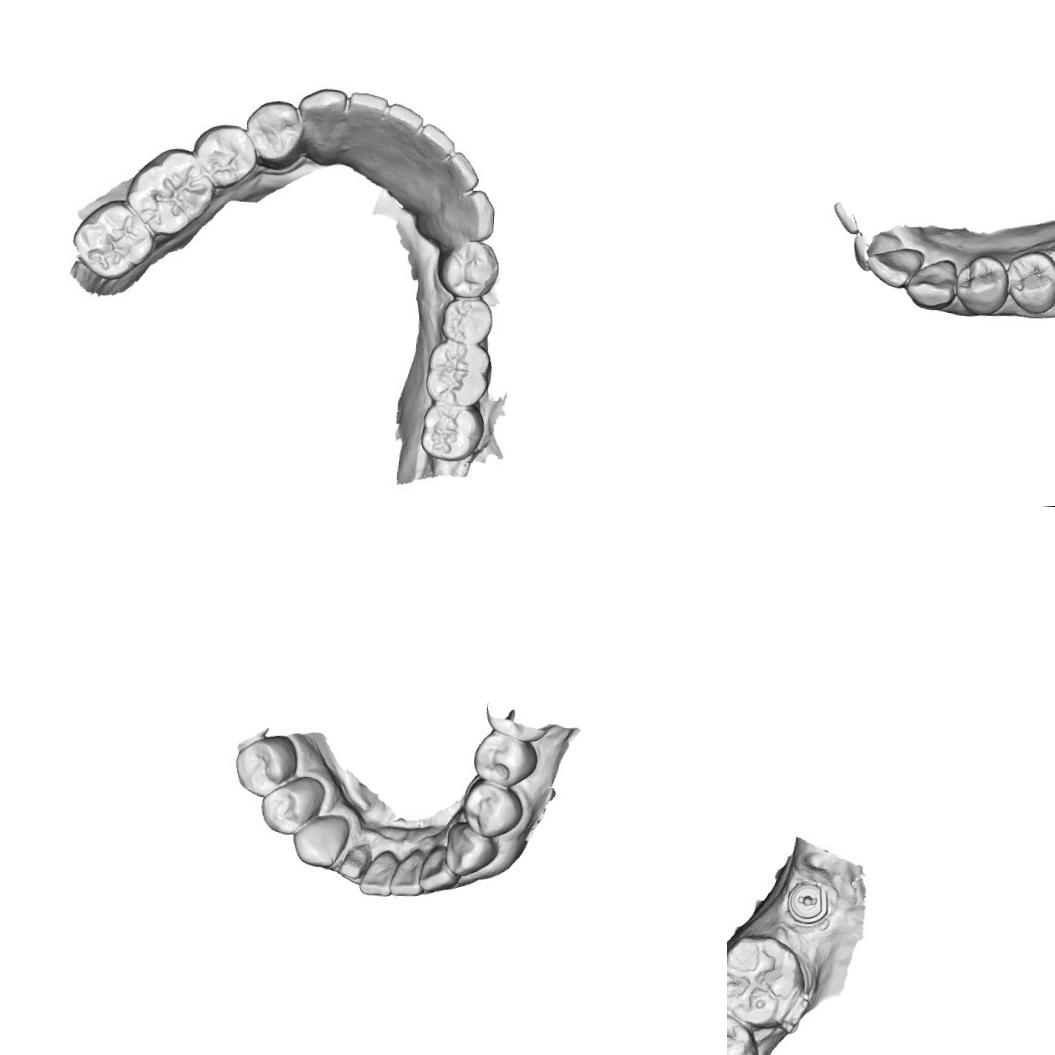canine: (431, 184, 498, 250), (294, 87, 350, 158), (289, 811, 350, 870), (444, 819, 500, 877), (902, 262, 956, 313)
crown: (338, 842, 371, 880)
implant: (785, 868, 833, 925)
incisor: (402, 118, 454, 202), (344, 90, 388, 178), (378, 101, 421, 186), (424, 152, 472, 225), (864, 244, 916, 291), (416, 844, 463, 896), (388, 847, 424, 897), (848, 226, 887, 272), (358, 848, 392, 896)
molar: (126, 146, 216, 235), (727, 931, 804, 1030), (72, 198, 156, 278), (427, 340, 492, 406), (421, 401, 484, 462)
premolar: (232, 732, 300, 800), (997, 246, 1055, 316), (460, 778, 524, 840), (472, 730, 540, 788), (196, 124, 250, 193), (244, 98, 300, 164), (258, 778, 313, 836), (956, 254, 1009, 313), (442, 294, 492, 345), (446, 247, 498, 294), (727, 1011, 755, 1055)
